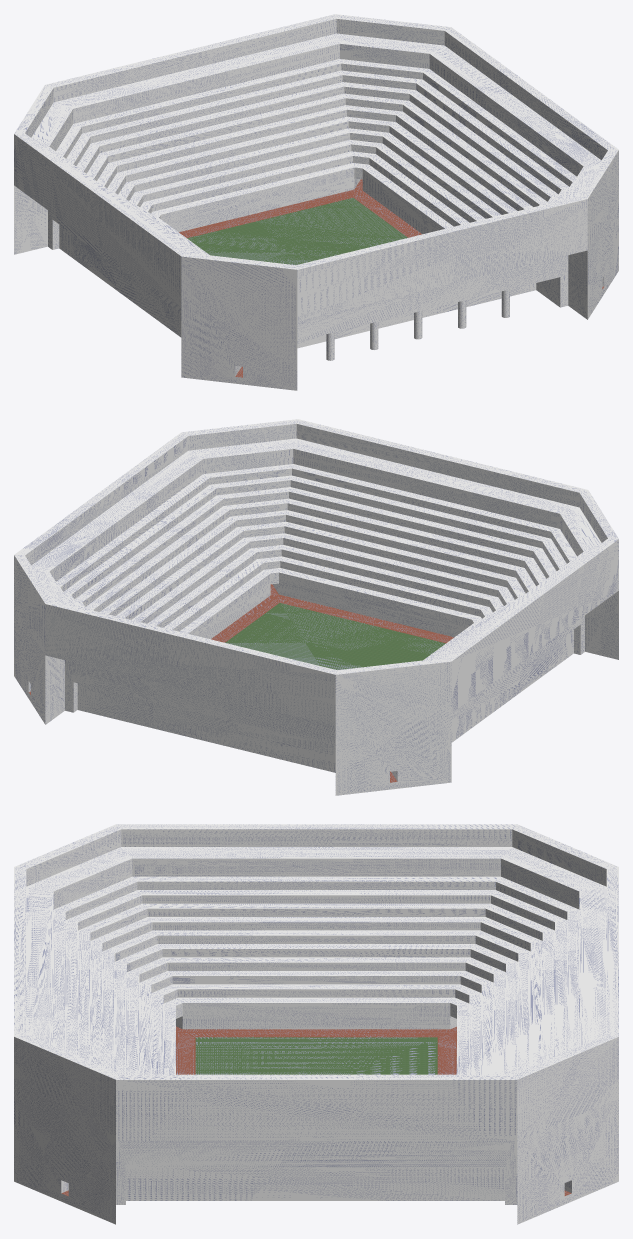
The picture shows the model from 3 angles, top to bottom: view 1: azimuth 30°, elevation 25°; view 2: azimuth 150°, elevation 25°; view 3: azimuth 270°, elevation 25°; orthographic projection. The views are drawn at different scales.
Visible parts, largest first — view 1: SketchUp (×15); view 2: SketchUp (×15); view 3: SketchUp (×15).
Boxes of the visible parts, x1,y1,x2,y2 form: SketchUp (×15): (14, 14, 618, 390); SketchUp (×15): (14, 419, 618, 795); SketchUp (×15): (14, 824, 618, 1224).
Size of the model in its own units: 4320 by 4320 by 1142.
